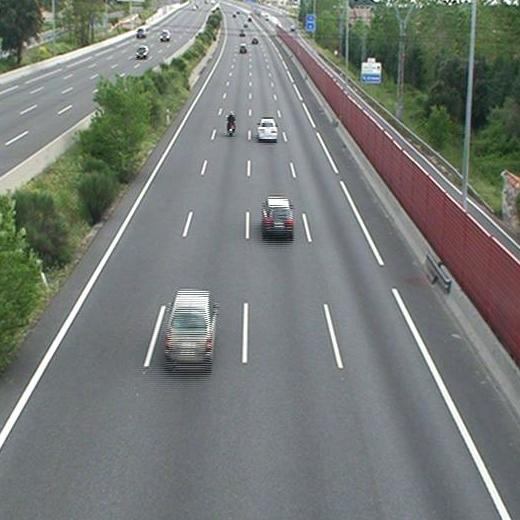car: (166, 291, 213, 361), (263, 198, 293, 233), (257, 119, 278, 140), (240, 44, 248, 53)
motorcycle: (226, 109, 237, 137)
